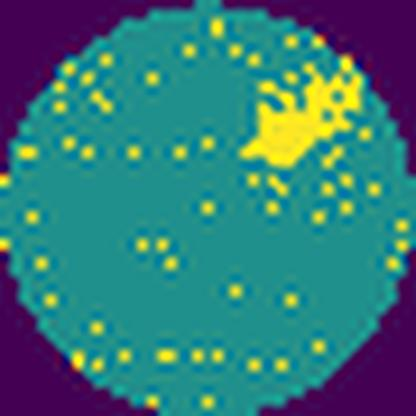Loc: (240, 50, 362, 170)
